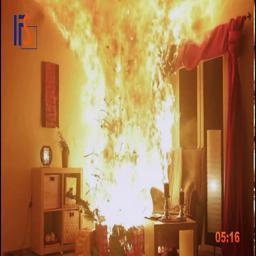fire: (40, 0, 206, 223)
